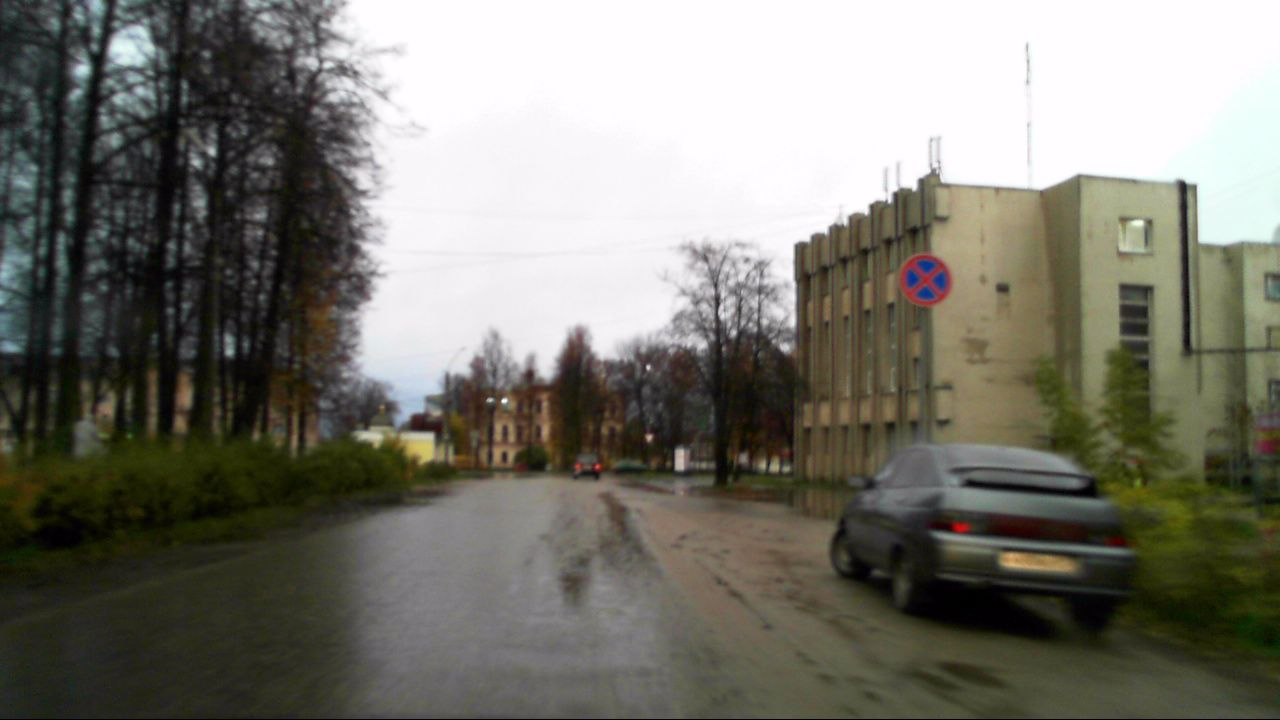No Parking: (900, 253, 951, 306)
